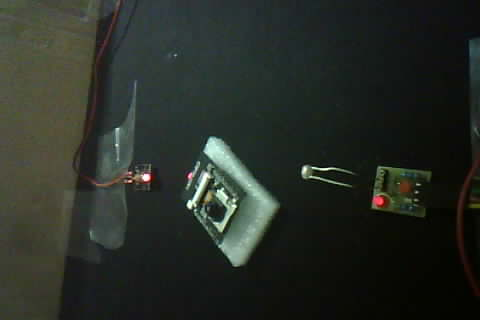esp32: (177, 142, 262, 264)
